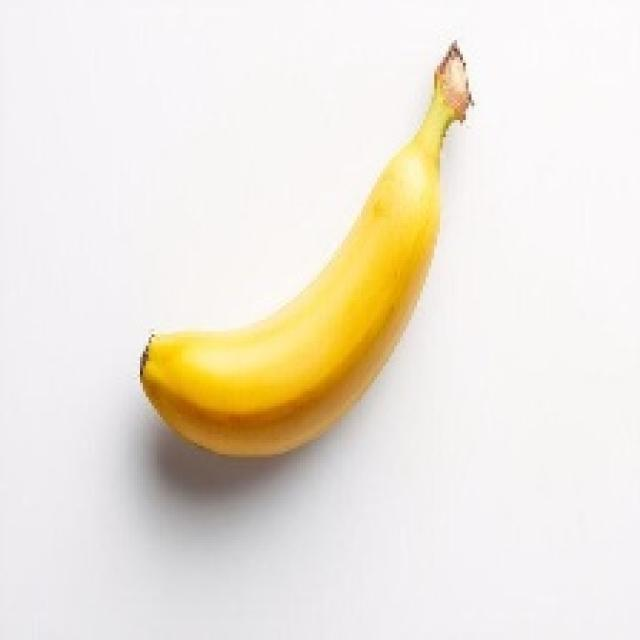Banana: (137, 37, 474, 457)
